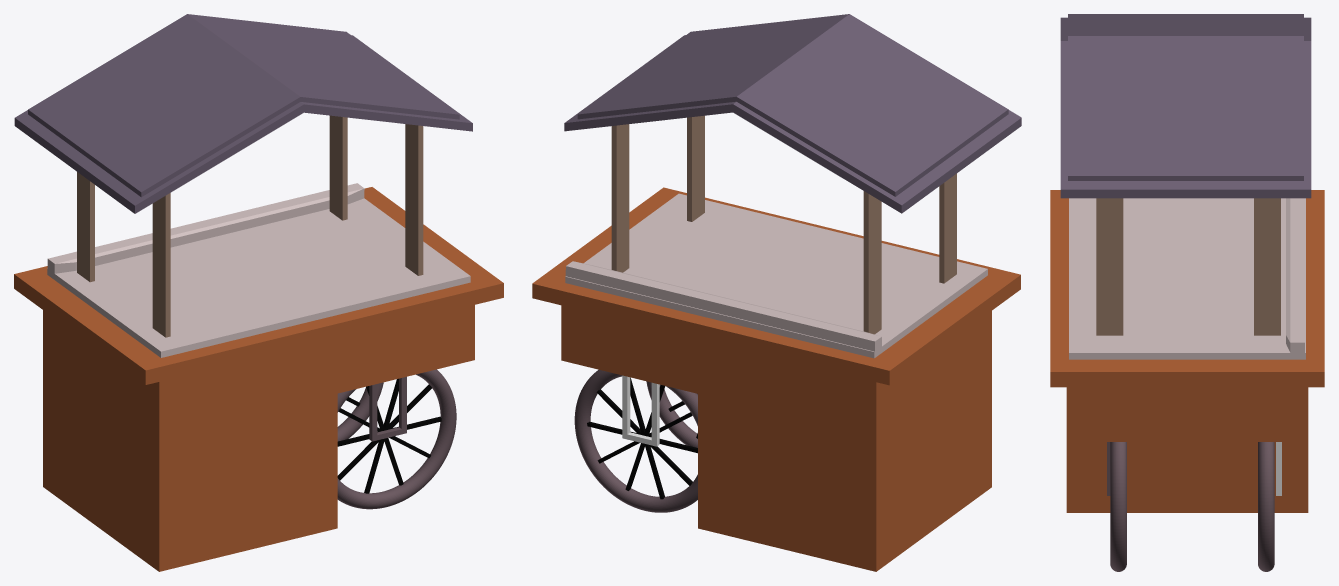
File: FoodCarttemp.fbx
3 views of the same model, side by side, from view 1: azimuth 30°, elevation 25°; view 2: azimuth 150°, elevation 25°; view 3: azimuth 270°, elevation 25° (orthographic). The views are drawn at different scales.
Parts seen in each view (by area): view 1: 立方体.001, 立方体.018, 立方体.006, 立方体.004, 立方体.007, 立方体.016, 环体, 立方体.017, sdjkfa.001, 立方体.008; view 2: 立方体.001, 立方体.018, 立方体.006, 立方体.004, 立方体.007, 环体, 立方体.016, 立方体.017, sdjkfa, 立方体.015; view 3: 立方体.001, 立方体.018, 立方体.006, 立方体.016, 立方体.004, 环体, 立方体.007.
Part boxes in pixels (box(x1,y1,x2,y2)): 立方体.001: box(14, 187, 503, 571); 立方体.018: box(28, 14, 459, 197); 立方体.006: box(47, 198, 470, 357); 立方体.004: box(14, 35, 472, 213); 立方体.007: box(47, 183, 364, 279); 立方体.016: box(329, 115, 423, 275); 环体: box(337, 369, 456, 509); 立方体.017: box(77, 172, 170, 337); sdjkfa.001: box(337, 378, 441, 493); 立方体.008: box(369, 376, 406, 441); 立方体.001: box(532, 187, 1020, 571); 立方体.018: box(577, 14, 1008, 196); 立方体.006: box(565, 193, 987, 358); 立方体.004: box(564, 35, 1021, 213); 立方体.007: box(565, 261, 881, 351); 环体: box(574, 370, 697, 512); 立方体.016: box(611, 115, 704, 272); 立方体.017: box(863, 173, 956, 334); sdjkfa: box(587, 377, 697, 499); 立方体.015: box(622, 375, 659, 446); 立方体.001: box(1050, 190, 1324, 512); 立方体.018: box(1068, 14, 1303, 180); 立方体.006: box(1069, 198, 1305, 359); 立方体.016: box(1096, 198, 1280, 335); 立方体.004: box(1060, 17, 1311, 198); 环体: box(1110, 442, 1274, 571); 立方体.007: box(1286, 198, 1304, 359).
Size of the model in its own units: 579 by 690 by 363.
